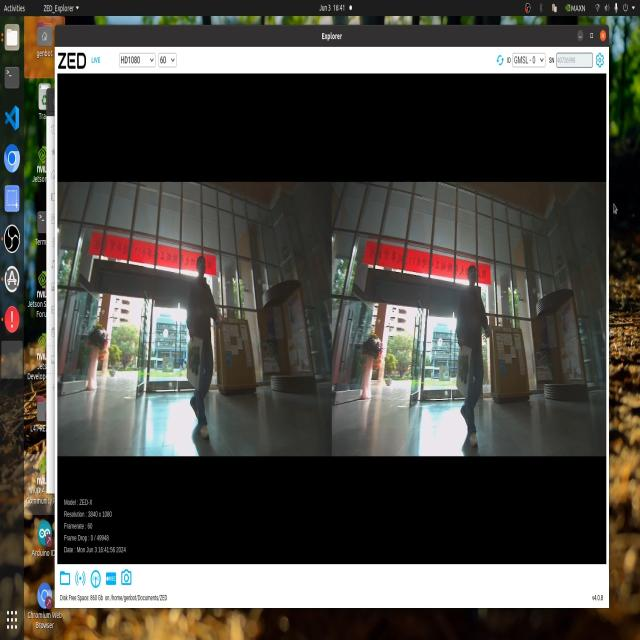green: (454, 354, 474, 395), (186, 346, 203, 382)
